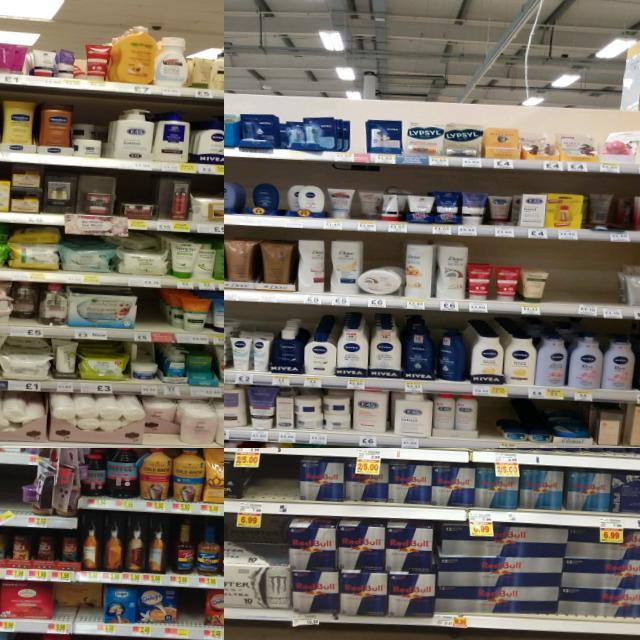Imprecise: (50, 582, 105, 624), (588, 190, 622, 233), (8, 279, 39, 324), (486, 192, 522, 229), (72, 122, 102, 159), (352, 189, 380, 219)
